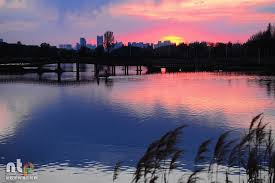lake: (7, 71, 274, 181)
sky: (1, 1, 270, 44)
